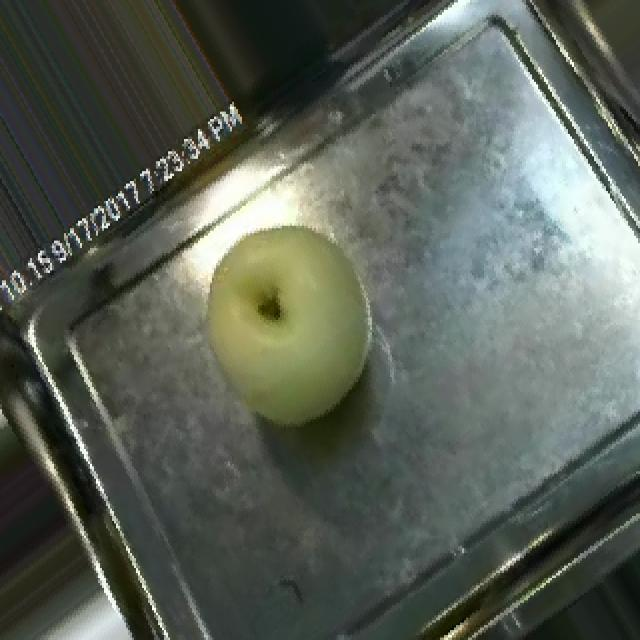apple: (169, 194, 392, 449)
